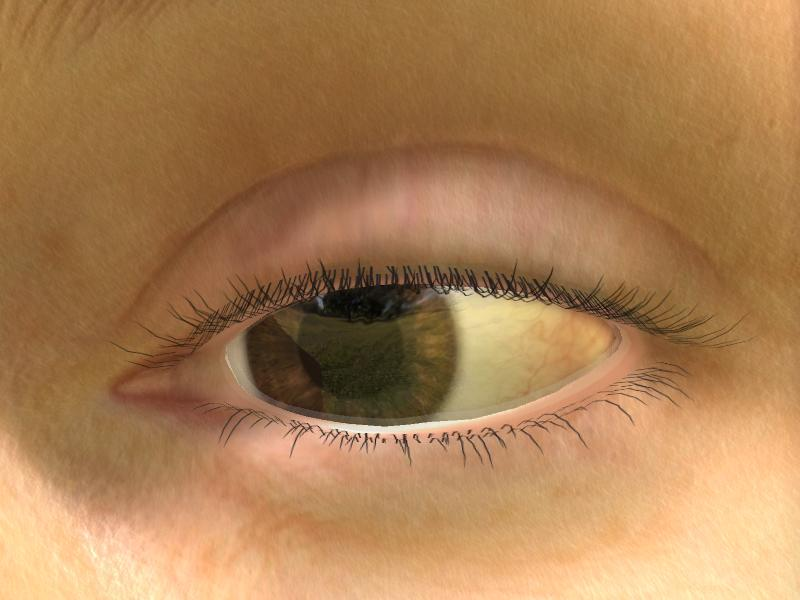eye: (239, 286, 459, 429)
